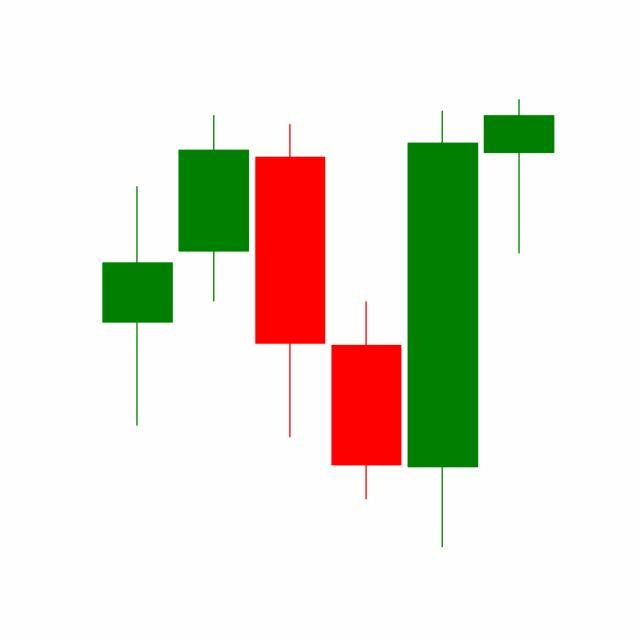Morning Star: (252, 106, 482, 548)
